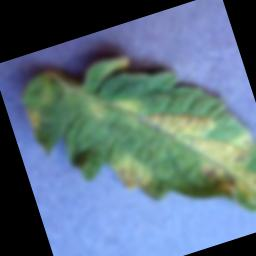Leaf_Mold: (145, 81, 256, 229), (82, 83, 148, 140), (108, 143, 158, 201), (22, 101, 47, 139)
